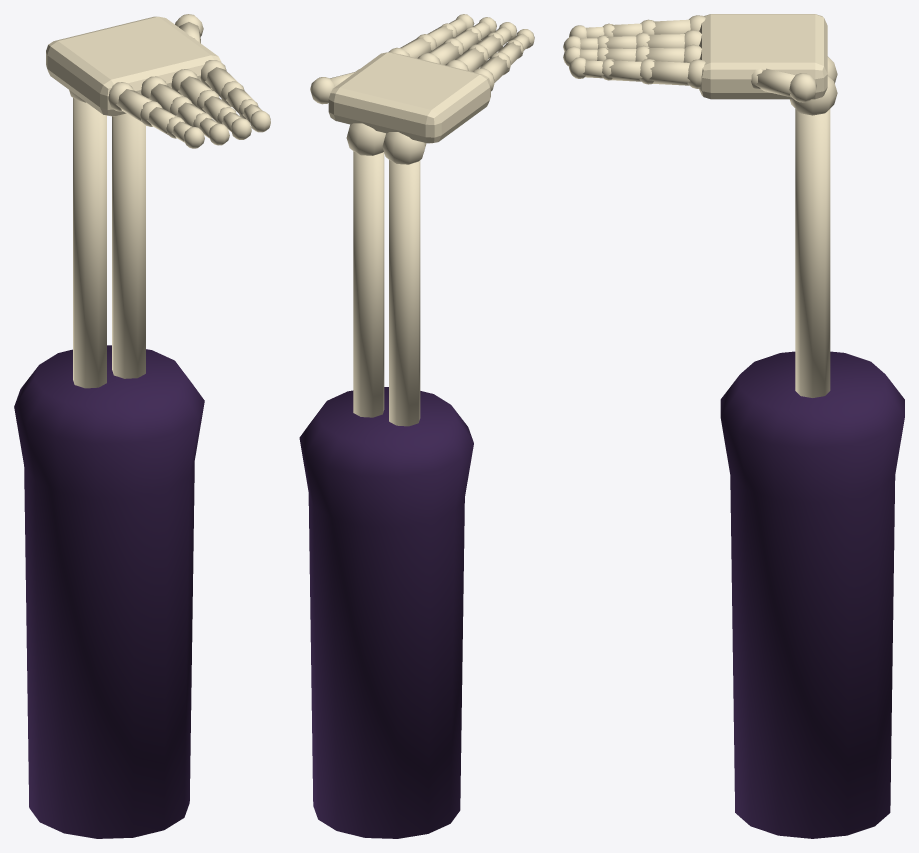
Rendered from skeleton-hand.glb.
3 views of the same model, side by side, from view 1: azimuth 30°, elevation 25°; view 2: azimuth 150°, elevation 25°; view 3: azimuth 270°, elevation 25° (orthographic). The views are drawn at different scales.
Parts seen in each view (by area): view 1: sleeve, forearm--0.045, palm, forearm-0.045, phalanx-1-0, phalanx-2-0, phalanx-3-0, phalanx-4-0; view 2: sleeve, palm, forearm-0.045, forearm--0.045, wrist--0.045, wrist-0.045, knuckle-0-0; view 3: sleeve, forearm-0.045, palm, phalanx-4-0, wrist-0.045, phalanx-0-0, knuckle-0-0.
Part boxes in pixels (x1,y1,x2,y2): sleeve: [14, 345, 204, 838]; forearm--0.045: [73, 98, 106, 388]; palm: [46, 16, 221, 116]; forearm-0.045: [112, 113, 145, 378]; phalanx-1-0: [116, 89, 151, 121]; phalanx-2-0: [148, 83, 183, 112]; phalanx-3-0: [178, 76, 211, 107]; phalanx-4-0: [205, 67, 237, 97]; sleeve: [299, 387, 473, 838]; palm: [328, 52, 490, 143]; forearm-0.045: [353, 151, 384, 417]; forearm--0.045: [389, 160, 420, 426]; wrist--0.045: [382, 132, 426, 164]; wrist-0.045: [346, 123, 385, 155]; knuckle-0-0: [310, 77, 334, 104]; sleeve: [720, 351, 904, 838]; forearm-0.045: [795, 109, 830, 397]; palm: [699, 14, 827, 99]; phalanx-4-0: [649, 61, 690, 85]; wrist-0.045: [790, 75, 837, 115]; phalanx-0-0: [755, 68, 795, 97]; knuckle-0-0: [789, 73, 816, 102].
Bounding box in the file's own units: 0.3888 × 1.7 × 0.687.
